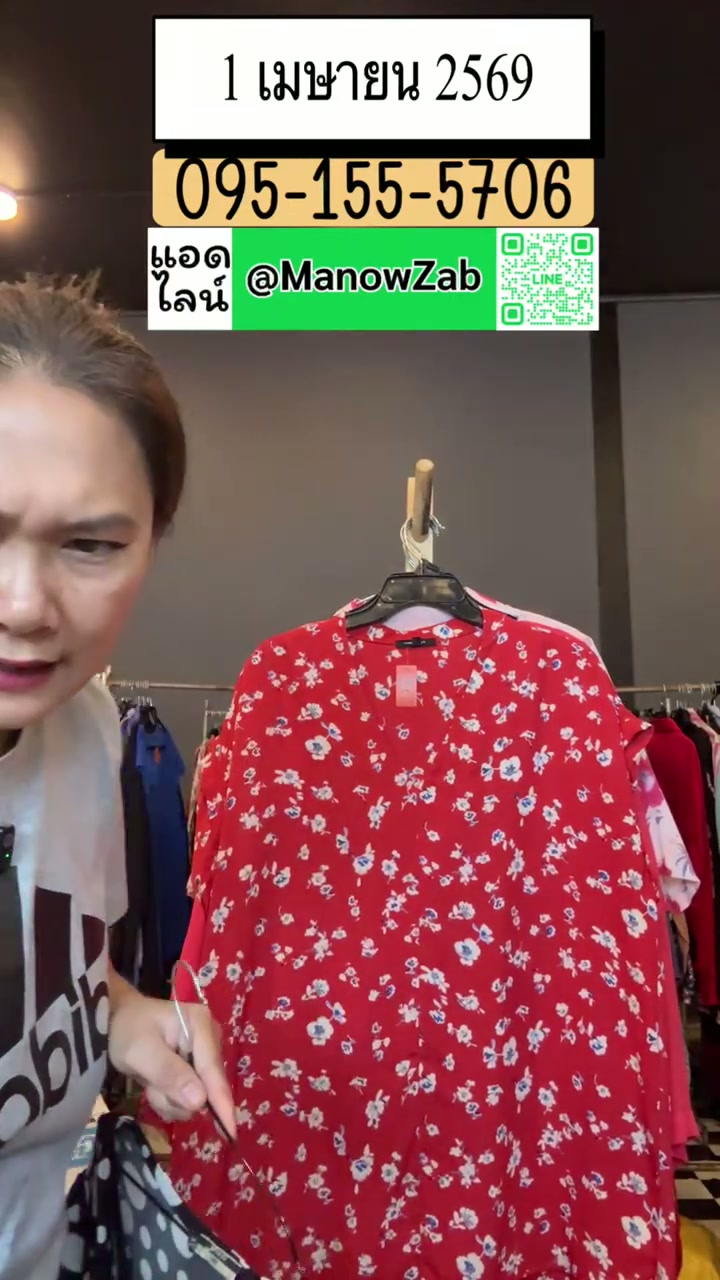display_shirt: (172, 603, 679, 1279)
